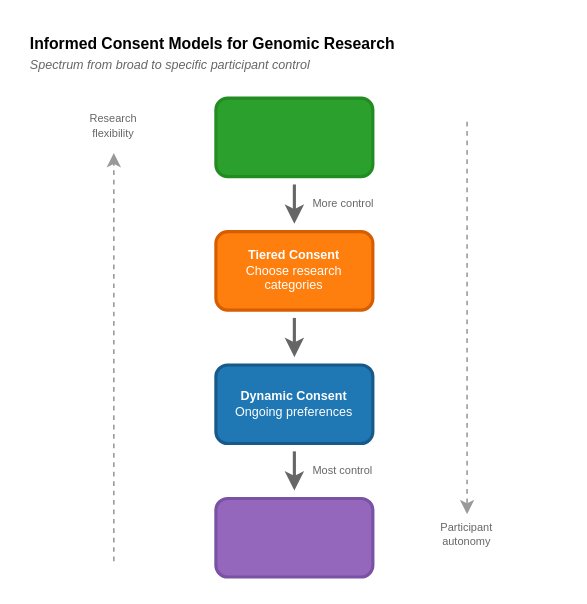
Some shapes in this 587 by 604 pixel diagram are drawn without their labels. Here are the shapes that lost their labels. From the top down, the centre of each, then its label:
(294,136): Broad Consent Future unspecified use
(294,537): Specific Consent Per-study approval
